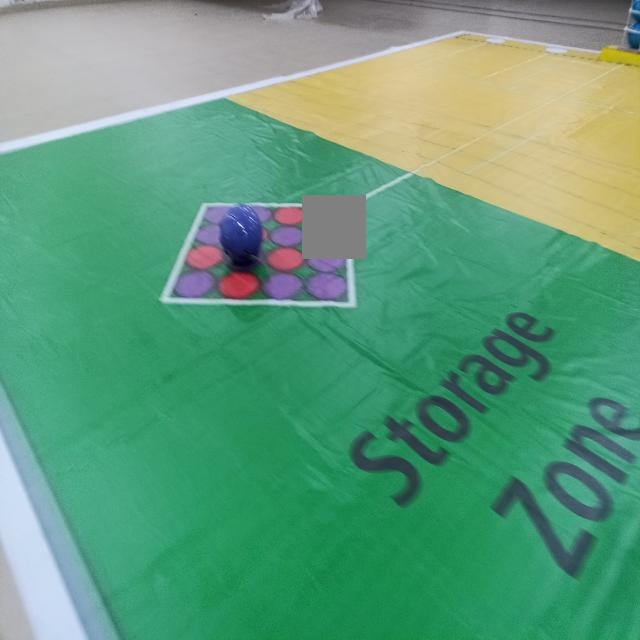purple_ball: (213, 195, 270, 275)
